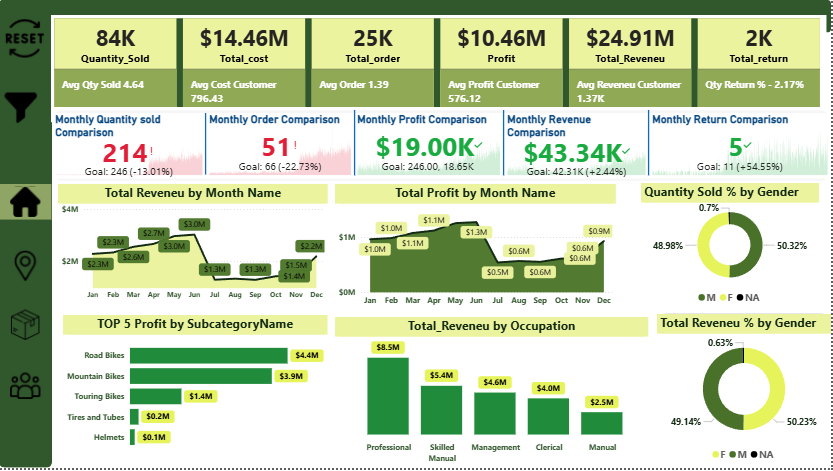

Layout of this report page (visuals, bound fields, positions):
{"tool":"powerbi","page":{"name":"Home_Page","canvas":[1280,720],"ordinal":0},"visuals":[{"type":"shape","box":[0,0,1280,50],"z":0},{"type":"shape","box":[81.7,165,1198.3,118.3],"z":0,"group":"g1"},{"type":"shape","box":[0,25,81.7,695],"z":1000},{"type":"kpi","title":"Monthly Quantity sold Comparison","fields":{"Indicator":[".Measure_Table.Quantity_Sold"],"TrendLine":["Calendar Lookup.Date"],"Goal":[".Measure_Table.Previous_month_QTY_sold"]},"box":[81.7,174.9,236.7,100.6],"z":1000,"group":"g1"},{"type":"cardVisual","fields":{"Data":[".Measure_Table.Quantity_Sold",".Measure_Table.Total_cost",".Measure_Table.Total_order",".Measure_Table.Profit",".Measure_Table.Total_Reveneu",".Measure_Table.Total_return"]},"box":[80,23.3,1193.3,165],"z":2000},{"type":"kpi","title":"Monthly Order Comparison","fields":{"TrendLine":["Calendar Lookup.Date"],"Indicator":[".Measure_Table.Total_order"],"Goal":[".Measure_Table.Previous_month_order"]},"box":[318.4,174.9,228.3,100.6],"z":2000,"group":"g1"},{"type":"group","id":"g1","title":"Group 1","box":[81.7,165,1198.3,118.3],"z":3000},{"type":"kpi","title":"Monthly Profit Comparison","fields":{"TrendLine":["Calendar Lookup.Date"],"Goal":[".Measure_Table.Previous_month_QTY_sold",".Measure_Table.Previous_month_profit"],"Indicator":[".Measure_Table.Profit"]},"box":[546.7,173.9,230,100.6],"z":3000,"group":"g1"},{"type":"kpi","title":"Monthly Return Comparison","fields":{"TrendLine":["Calendar Lookup.Date"],"Indicator":[".Measure_Table.Qty_Return"],"Goal":[".Measure_Table.Previous_month_QTY_return"]},"box":[1000,173.9,280,100.6],"z":4000,"group":"g1"},{"type":"lineChart","title":"Total Reveneu by Month Name","fields":{"Y":[".Measure_Table.Total_Reveneu"],"Category":["Calendar Lookup.Month Name"]},"box":[90,283.3,415,188.3],"z":4000},{"type":"kpi","title":"Monthly Revenue Comparison","fields":{"TrendLine":["Calendar Lookup.Date"],"Goal":[".Measure_Table.Previous_month_reveneu"],"Indicator":[".Measure_Table.Total_Reveneu"]},"box":[776.7,173.9,223.3,100.6],"z":5000,"group":"g1"},{"type":"lineChart","title":"Total Profit by Month Name","fields":{"Category":["Calendar Lookup.Month Name"],"Y":[".Measure_Table.Profit"]},"box":[516.7,283.3,431.7,196.7],"z":5000},{"type":"shape","box":[306.7,174.9,23.3,94.7],"z":6000,"group":"g1"},{"type":"donutChart","title":"Quantity Sold % by Gender","fields":{"Category":["Customer Lookup.Gender"],"Y":[".Measure_Table.Quantity_Sold"]},"box":[987.8,280.8,273.6,195.8],"z":6000},{"type":"shape","box":[535,169.9,23.3,100.6],"z":7000,"group":"g1"},{"type":"clusteredBarChart","title":"TOP 5 Profit by SubcategoryName","fields":{"Category":["Product Subcategories Lookup.SubcategoryName"],"Y":[".Measure_Table.Profit"]},"box":[98.3,485,406.7,218.3],"z":7000},{"type":"shape","box":[765,168.9,23.3,100.6],"z":8000,"group":"g1"},{"type":"shape","box":[1011.7,481.7,268.3,223.3],"z":8000},{"type":"shape","box":[988.4,169.9,23.3,100.6],"z":9000,"group":"g1"},{"type":"clusteredColumnChart","fields":{"Category":["Customer Lookup.Occupation"],"Y":[".Measure_Table.Total_Reveneu"]},"box":[517,488.2,482.4,231.8],"z":9000},{"type":"donutChart","title":"Total Reveneu % by Gender","fields":{"Y":[".Measure_Table.Total_Reveneu"],"Category":["Customer Lookup.Gender"]},"box":[1012.3,483.8,267.8,236.2],"z":10000},{"type":"actionButton","box":[0,283.7,80.6,54.7],"z":11000},{"type":"actionButton","box":[0,381.6,80.6,54.7],"z":12000},{"type":"actionButton","box":[0,472.3,80.6,54.7],"z":13000},{"type":"actionButton","box":[0,565.9,80.6,54.7],"z":14000},{"type":"actionButton","box":[6,25.3,67,68.5],"z":14500},{"type":"actionButton","box":[0,131,80.4,67],"z":14750}]}

Visuals, with their boxes in screenshot pixels (x1, y1, x2, y2), scaled from the page's 1280x720 canvas onto the 833x471 screenshot:
shape: locate(0, 0, 832, 33)
shape: locate(53, 108, 832, 185)
shape: locate(0, 16, 53, 470)
"Monthly Quantity sold Comparison" kpi: locate(53, 114, 207, 180)
cardVisual - .Measure_Table.Quantity_Sold x .Measure_Table.Total_cost: locate(52, 15, 829, 123)
"Monthly Order Comparison" kpi: locate(207, 114, 356, 180)
"Group 1" group: locate(53, 108, 832, 185)
"Monthly Profit Comparison" kpi: locate(356, 114, 505, 180)
"Monthly Return Comparison" kpi: locate(651, 114, 832, 180)
"Total Reveneu by Month Name" lineChart: locate(59, 185, 329, 309)
"Monthly Revenue Comparison" kpi: locate(505, 114, 651, 180)
"Total Profit by Month Name" lineChart: locate(336, 185, 617, 314)
shape: locate(200, 114, 215, 176)
"Quantity Sold % by Gender" donutChart: locate(643, 184, 821, 312)
shape: locate(348, 111, 363, 177)
"TOP 5 Profit by SubcategoryName" clusteredBarChart: locate(64, 317, 329, 460)
shape: locate(498, 110, 513, 176)
shape: locate(658, 315, 832, 461)
shape: locate(643, 111, 658, 177)
clusteredColumnChart - Customer Lookup.Occupation x .Measure_Table.Total_Reveneu: locate(336, 319, 650, 470)
"Total Reveneu % by Gender" donutChart: locate(659, 316, 832, 470)
actionButton: locate(0, 186, 52, 221)
actionButton: locate(0, 250, 52, 285)
actionButton: locate(0, 309, 52, 345)
actionButton: locate(0, 370, 52, 406)
actionButton: locate(4, 17, 48, 61)
actionButton: locate(0, 86, 52, 130)
